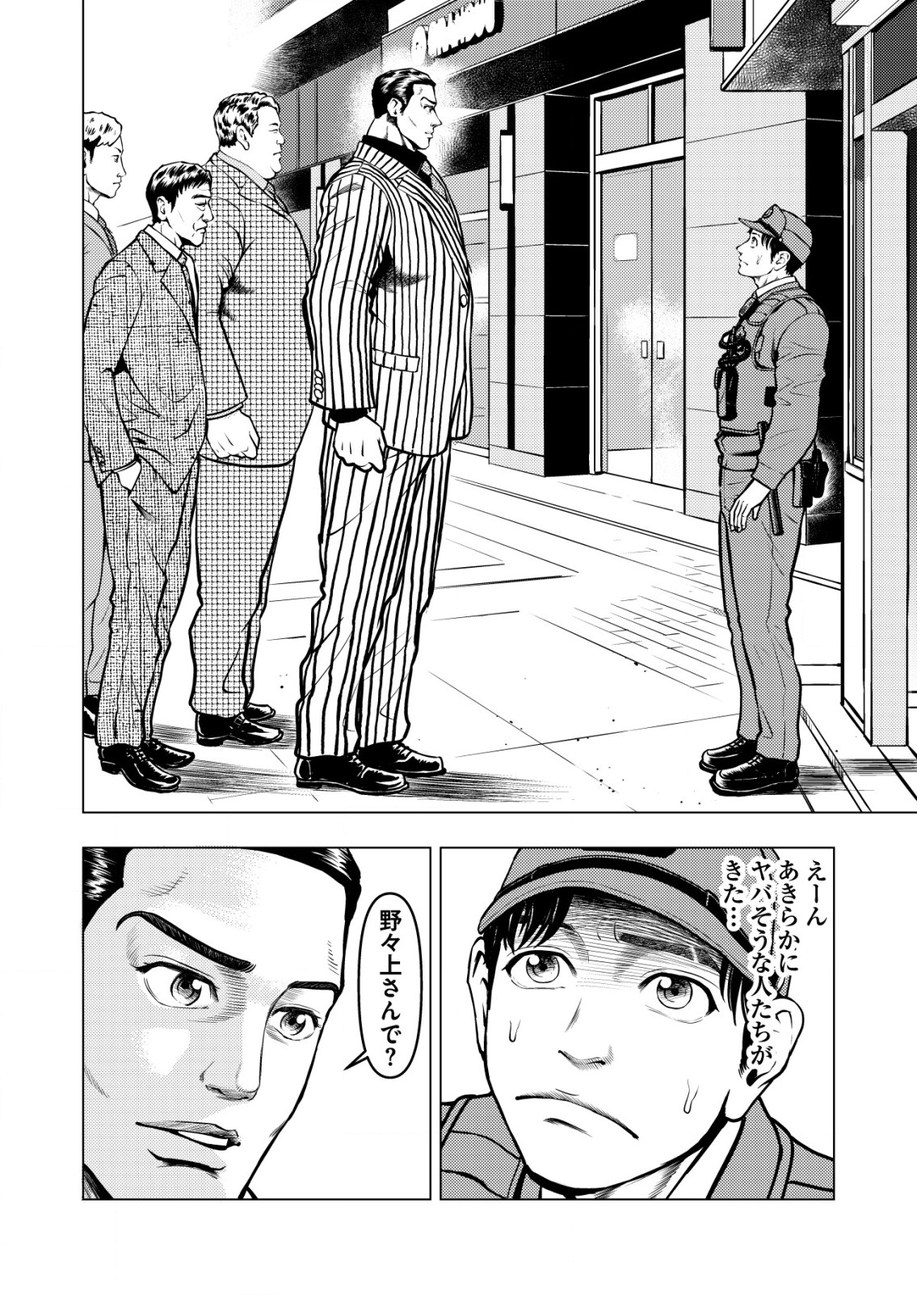bubbles: (346, 886, 424, 1088)
